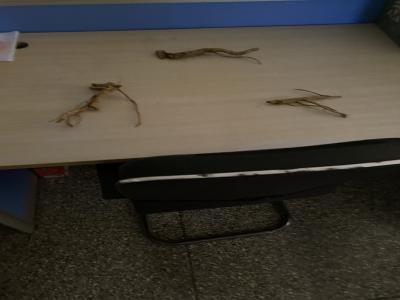Root: (50, 82, 141, 126), (266, 89, 348, 118), (155, 48, 262, 64)
